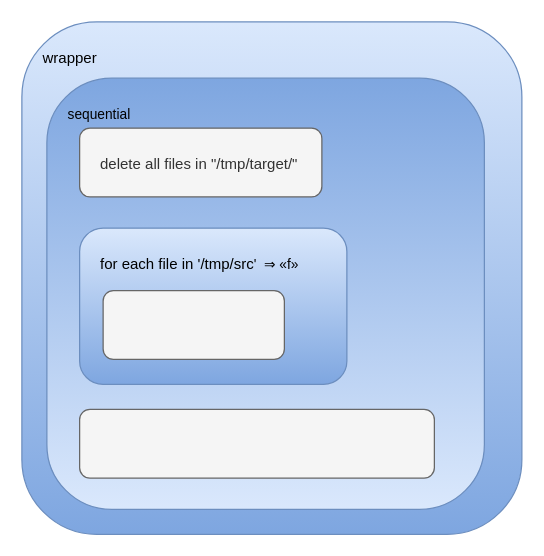
Image size: 544x556. Some labels were removed from this diagram. The centre of each missing label's shape, as x and y in pixels:
copy «f» to "/tmp/src": pixel 193 324
rename " /tmp/target/XYZ.md" " /tmp/target/xyz.md": pixel 256 443
